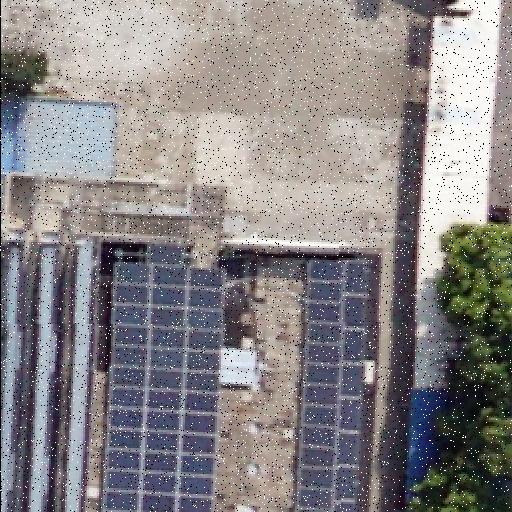solar-panel: (80, 256, 240, 512), (286, 246, 384, 512)
